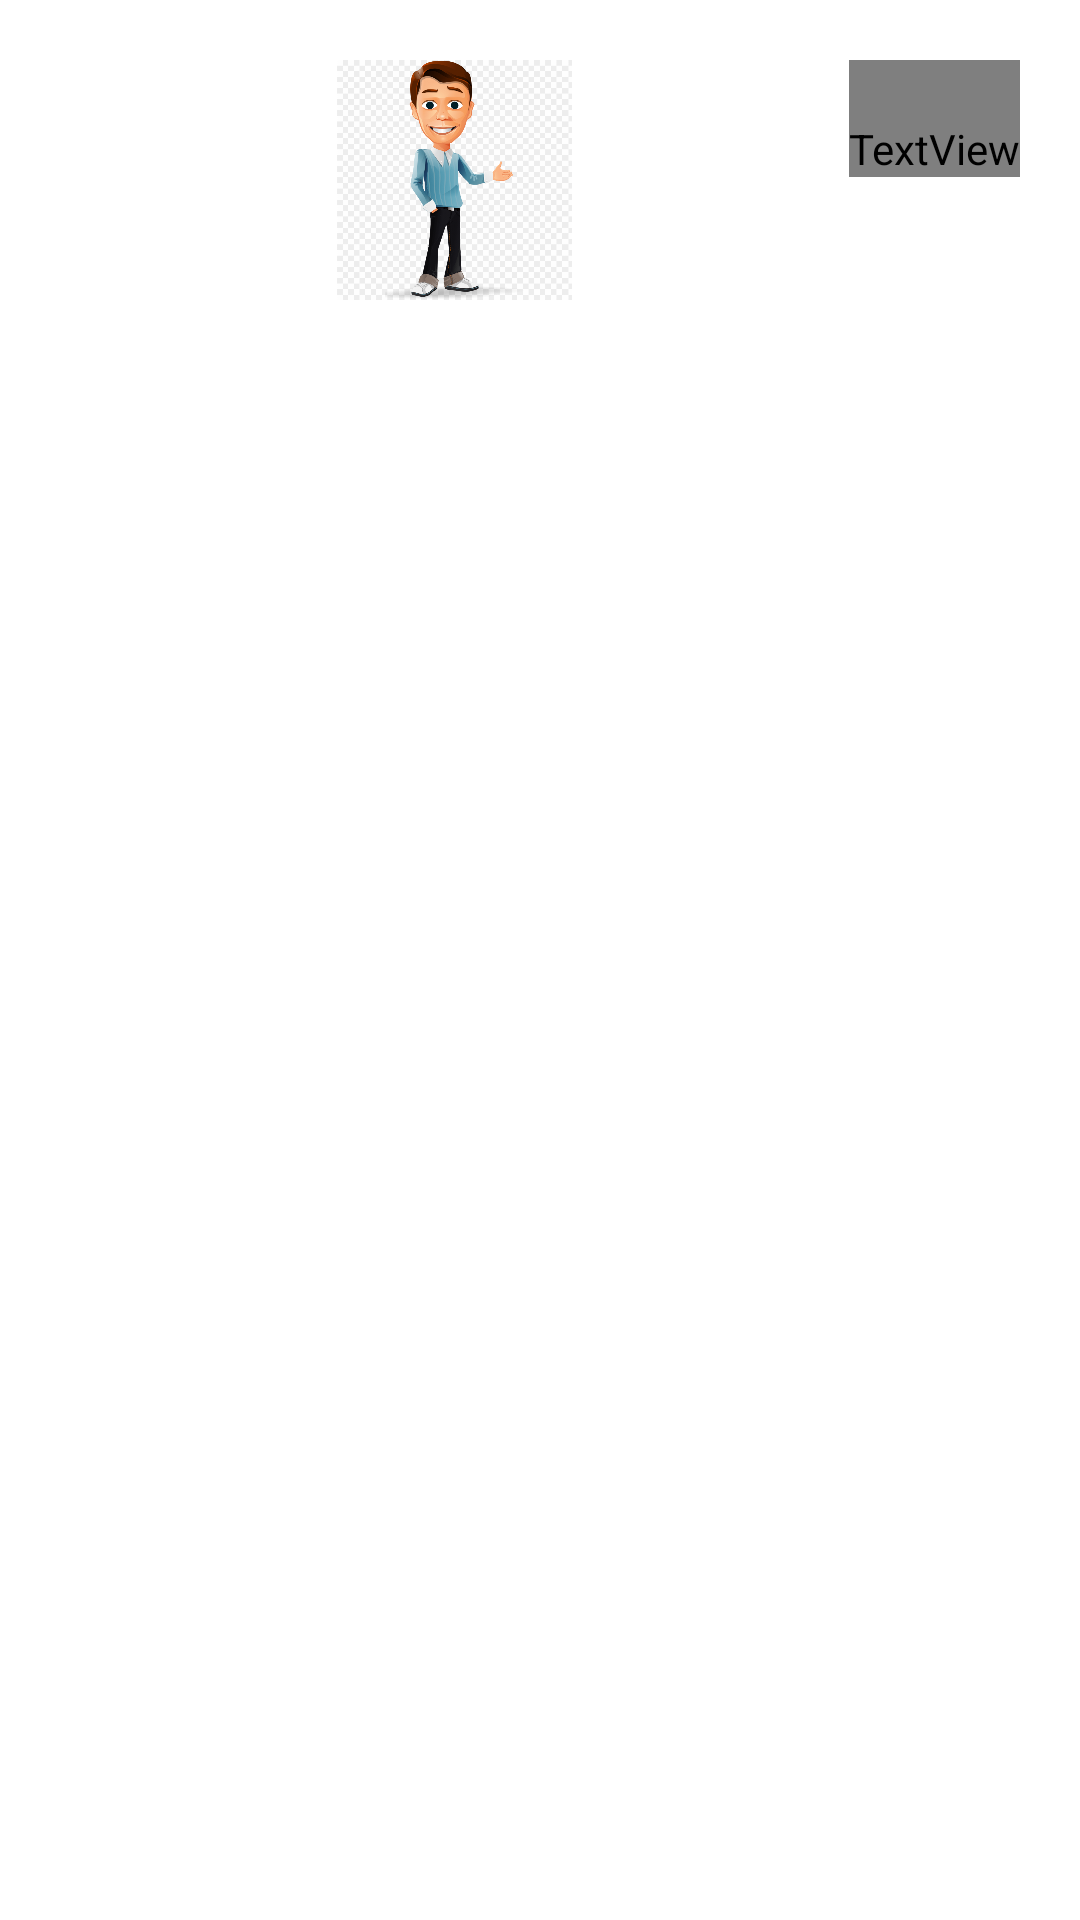

Where icons sit on this 1080*1920 app screen, as [x1=x1, y1=y1, x2=x2, y2=y2]:
welcome: [x1=385, y1=61, x2=513, y2=299]
